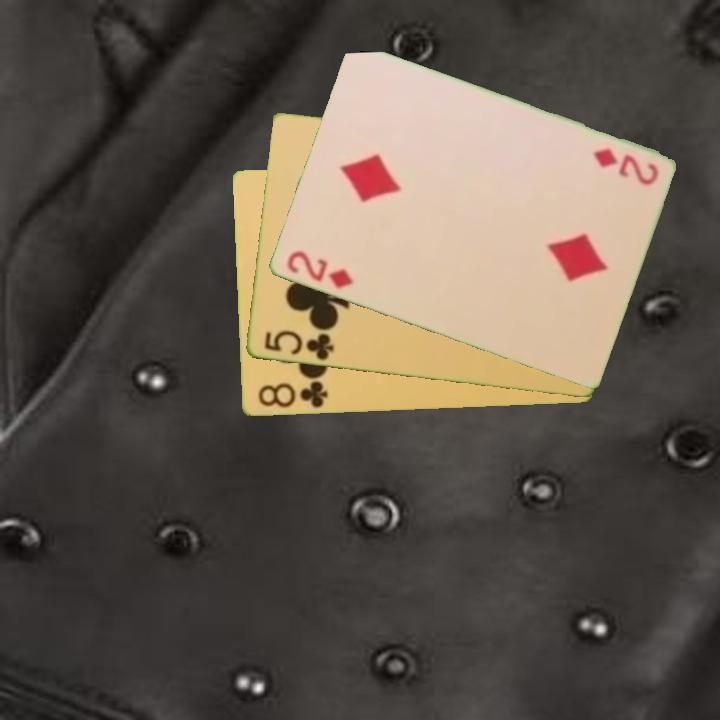2d: (283, 247, 355, 292), (589, 145, 661, 188)
5c: (260, 327, 336, 364)
8c: (254, 378, 331, 411)
